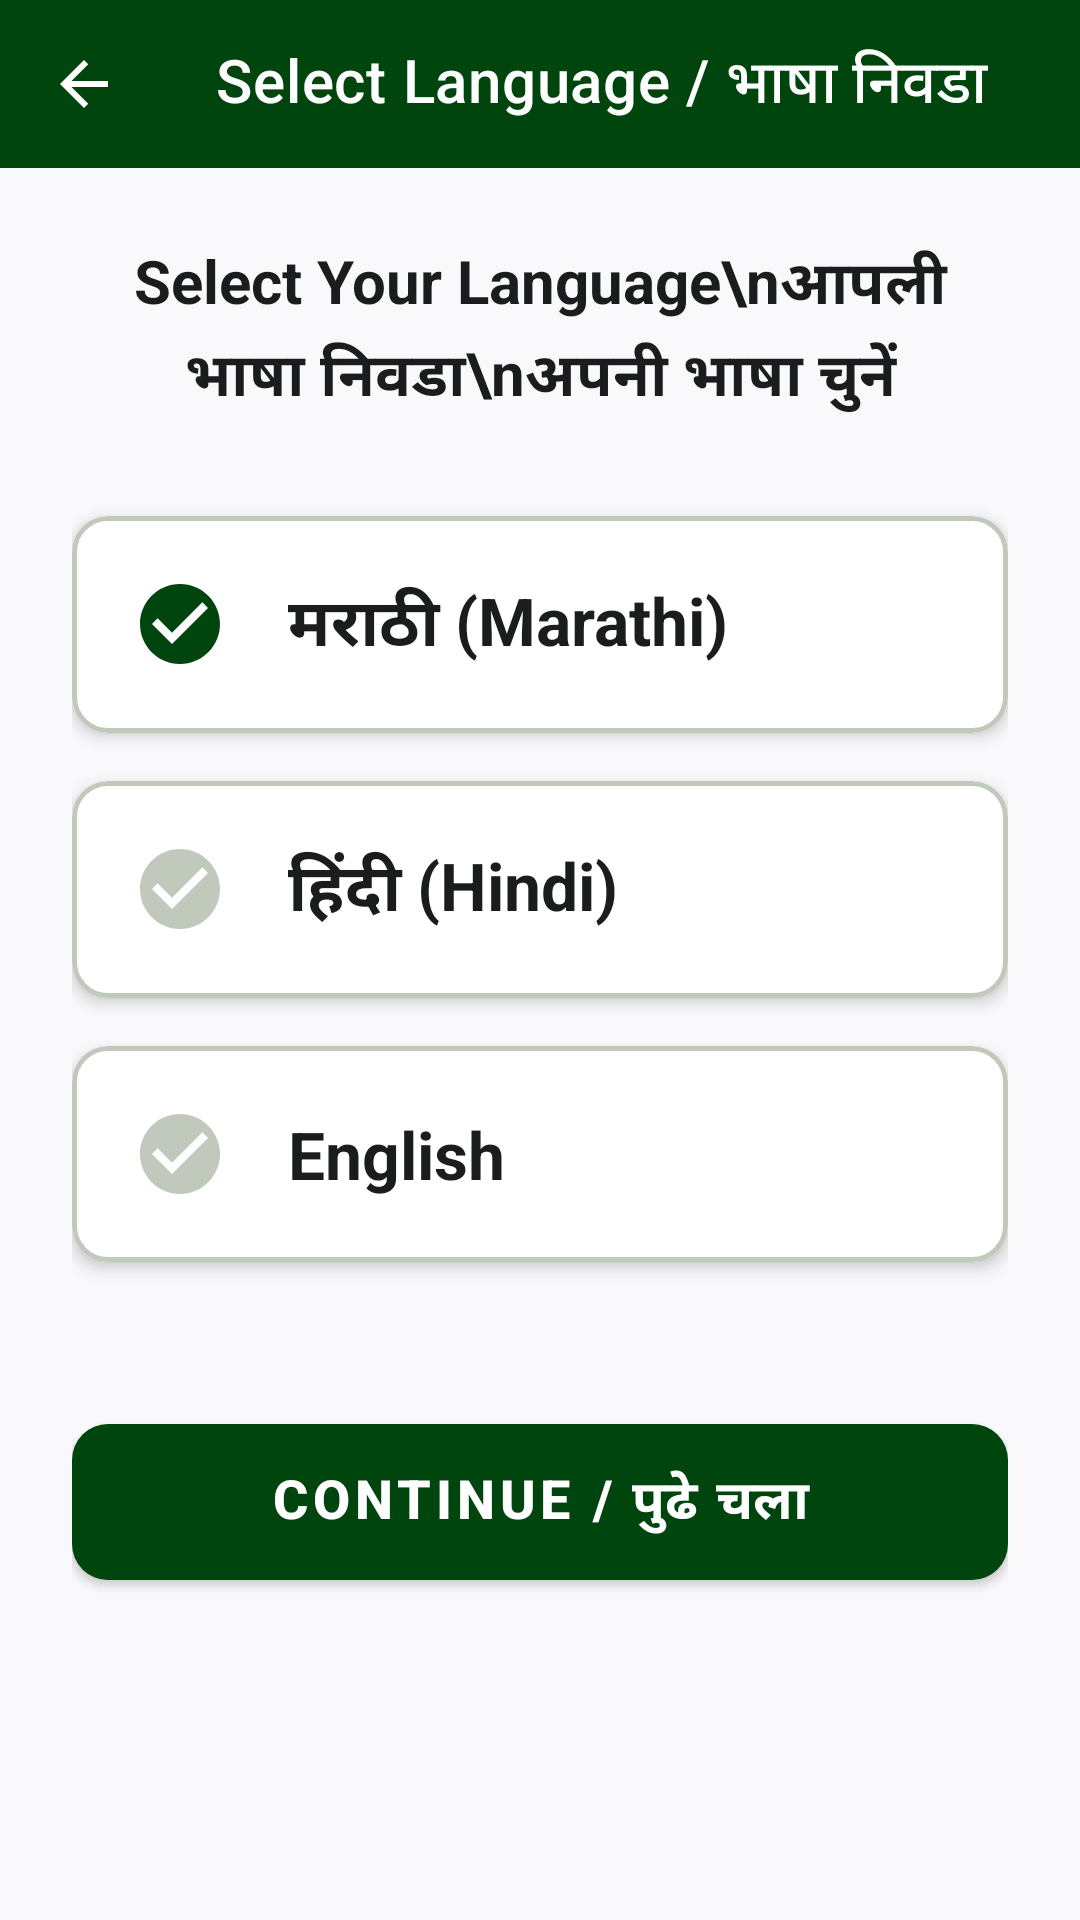

Named icons in this screenshot (1080x1920) and their bounding boxes, (x1, y1, x2, y2):
Not Selected: (140, 849, 220, 929), (140, 1114, 220, 1194)
Selected: (140, 584, 220, 664)
